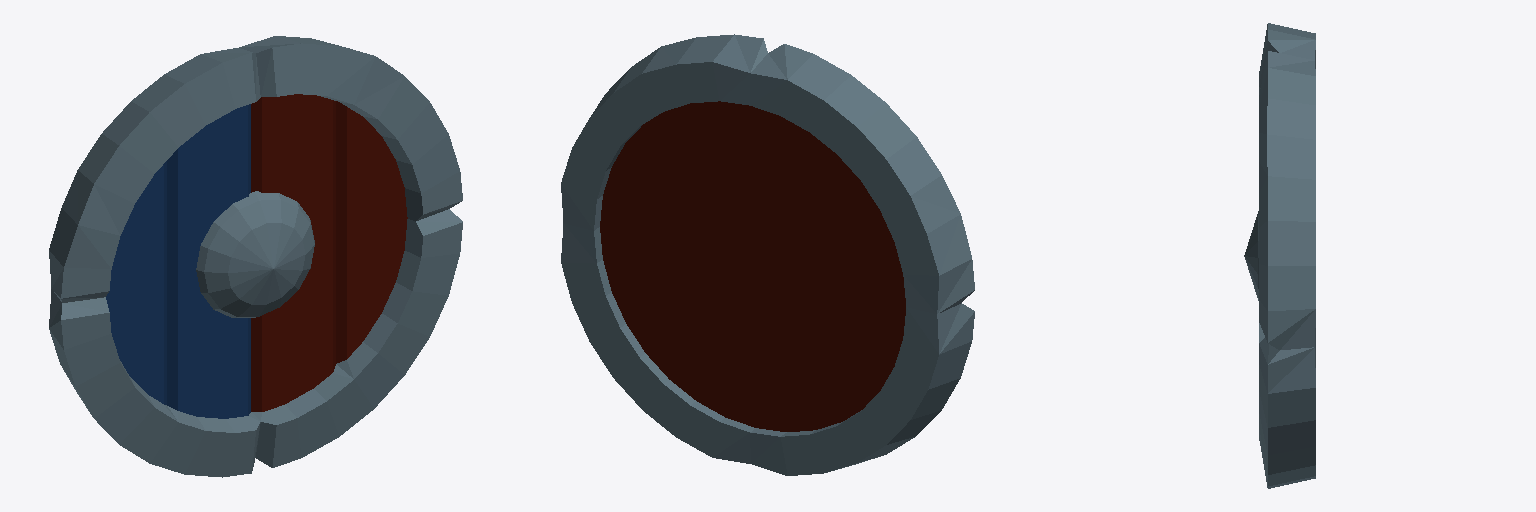
The model's file is vikingShieldB.obj.
3 views of the same model, side by side, from view 1: azimuth 30°, elevation 25°; view 2: azimuth 150°, elevation 25°; view 3: azimuth 270°, elevation 25° (orthographic).
Parts seen in each view (by area): view 1: vikingShieldB_Cylinder.334; view 2: vikingShieldB_Cylinder.334; view 3: vikingShieldB_Cylinder.334.
Part boxes in pixels (x1,y1,x2,y2): vikingShieldB_Cylinder.334: (49, 36, 462, 477); vikingShieldB_Cylinder.334: (561, 34, 974, 475); vikingShieldB_Cylinder.334: (1244, 23, 1315, 488).
Bounding box in the file's own units: 0.8194 × 0.8194 × 0.1262.